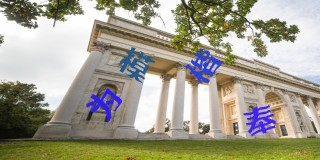为: (86, 88, 122, 122)
奉: (243, 106, 276, 136)
楷: (186, 48, 222, 83)
模: (120, 47, 155, 83)
